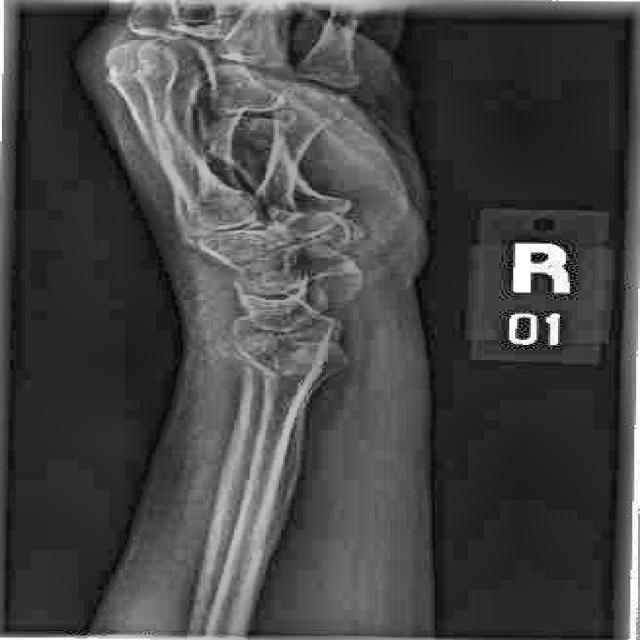fingers positive: (201, 313, 377, 402)
